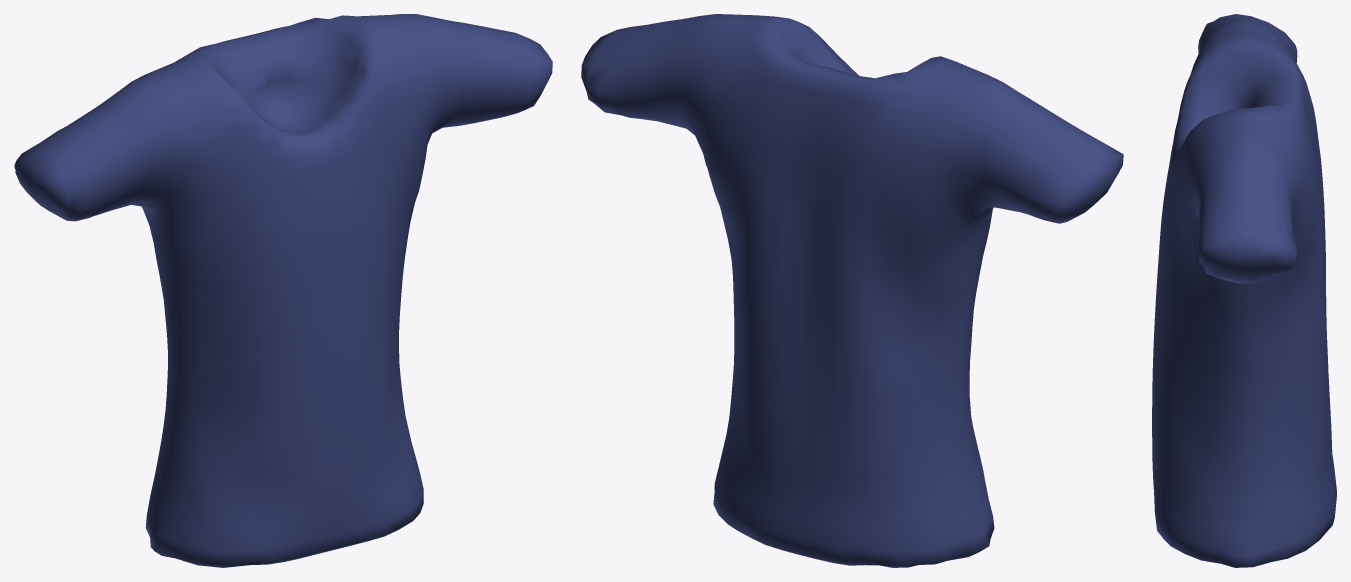
Rendered from m_shirt_01.fbx.
3 renders of one model, left to right at view 1: azimuth 30°, elevation 25°; view 2: azimuth 150°, elevation 25°; view 3: azimuth 270°, elevation 25°, orthographic. The views are drawn at different scales.
Parts seen in each view (by area): view 1: m_shirt_01; view 2: m_shirt_01; view 3: m_shirt_01.
Part boxes in pixels (left/top/right/bottom): m_shirt_01: left=14, top=14, right=552, bottom=567; m_shirt_01: left=581, top=14, right=1123, bottom=567; m_shirt_01: left=1152, top=14, right=1336, bottom=567.
Bounding box in the file's own units: 58.03 × 52.74 × 19.88.
